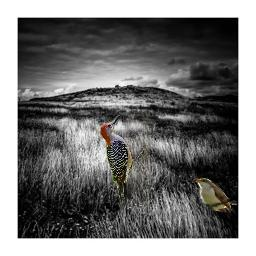Cuckoo: (192, 175, 237, 212)
Woodpecker: (97, 114, 150, 205)
